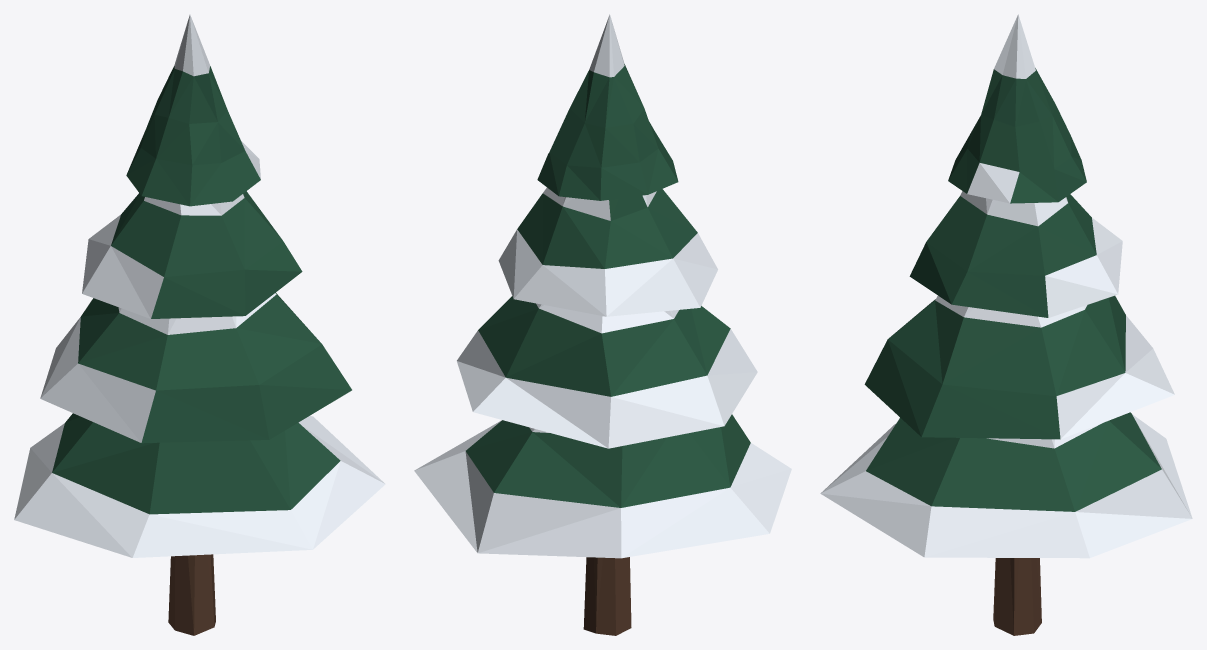
File: pine_medium.obj
3 renders of one model, left to right at view 1: azimuth 30°, elevation 25°; view 2: azimuth 150°, elevation 25°; view 3: azimuth 270°, elevation 25°, orthographic.
Visible parts, largest first — view 1: pine_medium; view 2: pine_medium; view 3: pine_medium.
Boxes of the visible parts, x1,y1,x2,y2 form: pine_medium: (14, 14, 385, 635); pine_medium: (414, 14, 791, 635); pine_medium: (820, 14, 1192, 635).
Size of the model in its own units: 7.67 by 13.72 by 7.59.
1 material, 1 textured.
